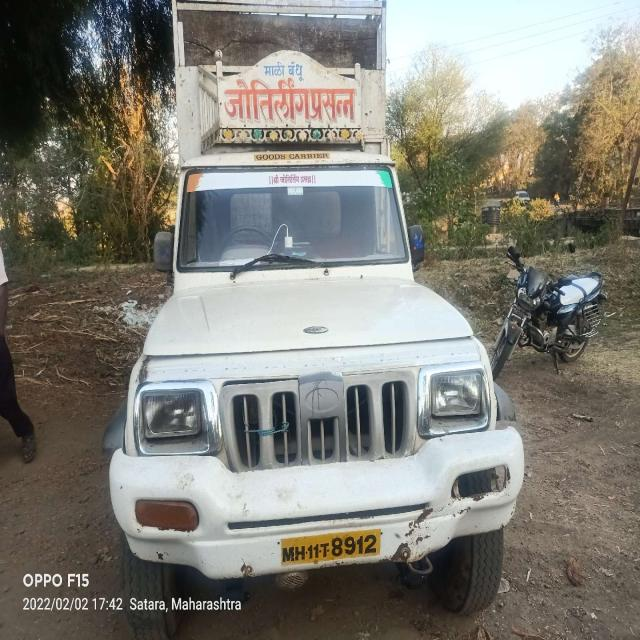light_vehicle: (118, 164, 516, 586)
